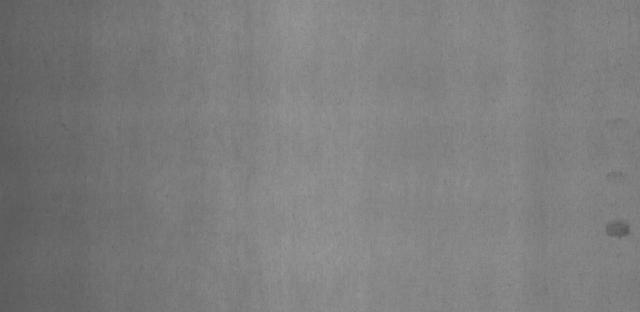oil_spot: (602, 216, 632, 246)
